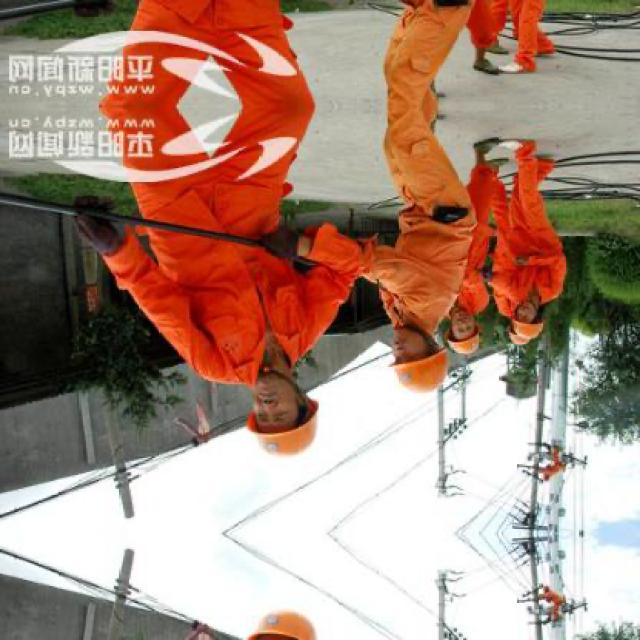con casco: (210, 288, 332, 483), (374, 286, 464, 424), (439, 284, 495, 394), (504, 277, 560, 368)
